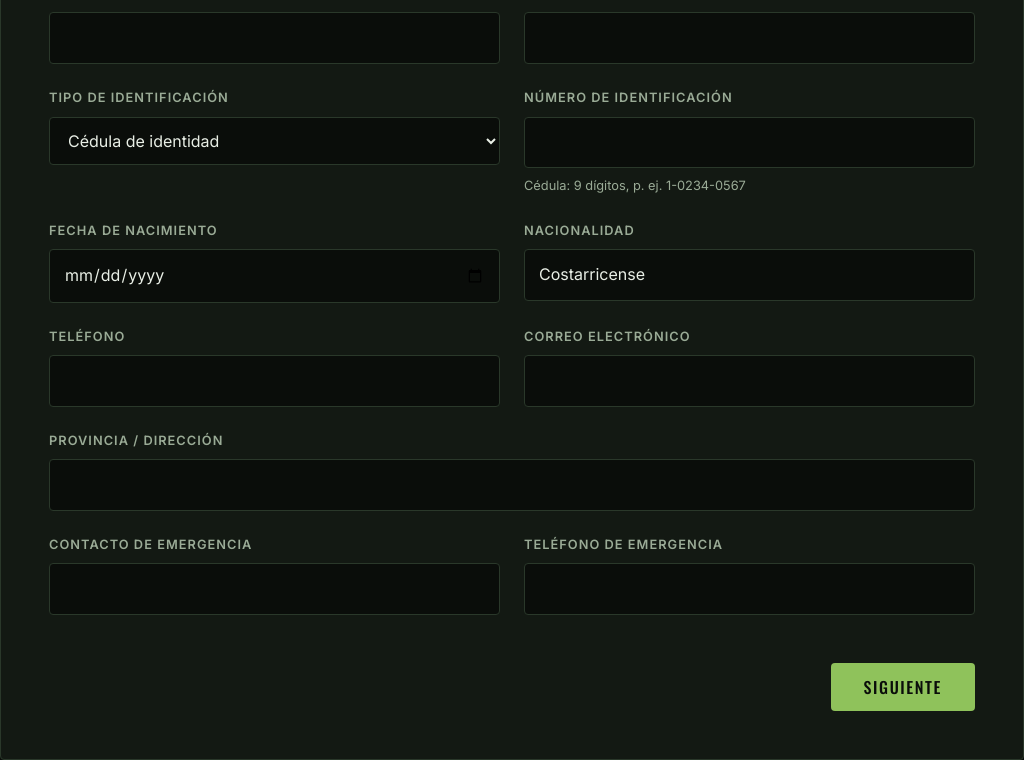
Flujo completo: inscripción → panel admin › muestra errores si se avanza vacío
(page scrolled)
Click the button "Siguiente". click: (903, 687)
box: [831,663,975,711]
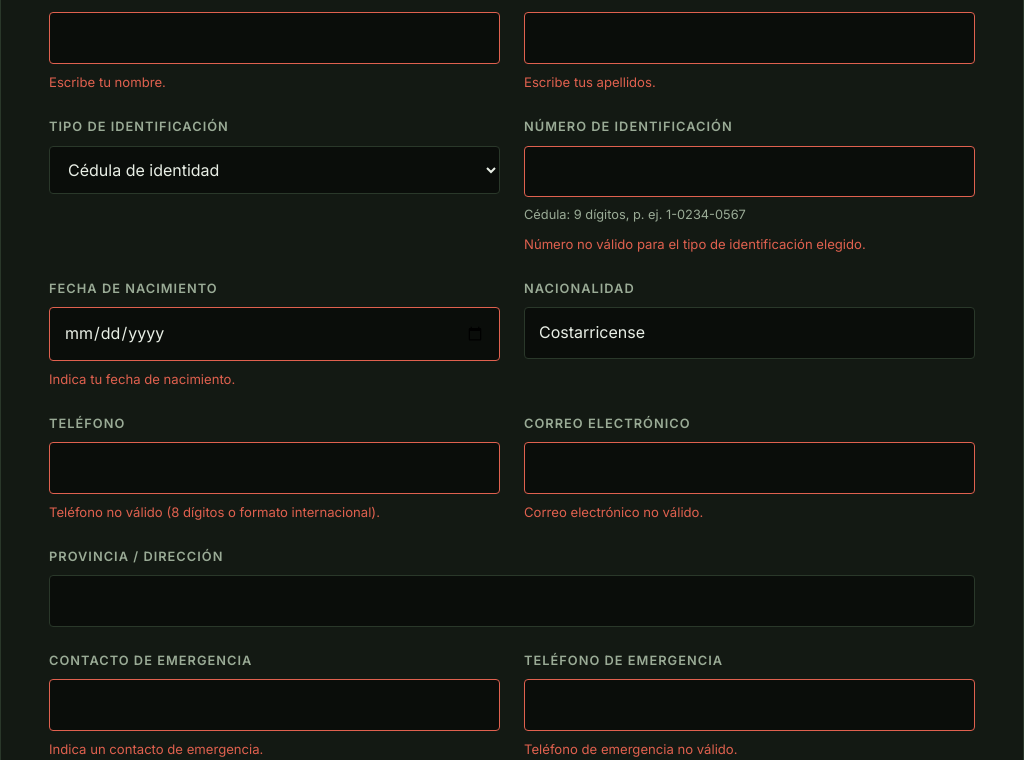
expect the text "Escribe tu nombre." is shown: met, box [49,74,166,90]
